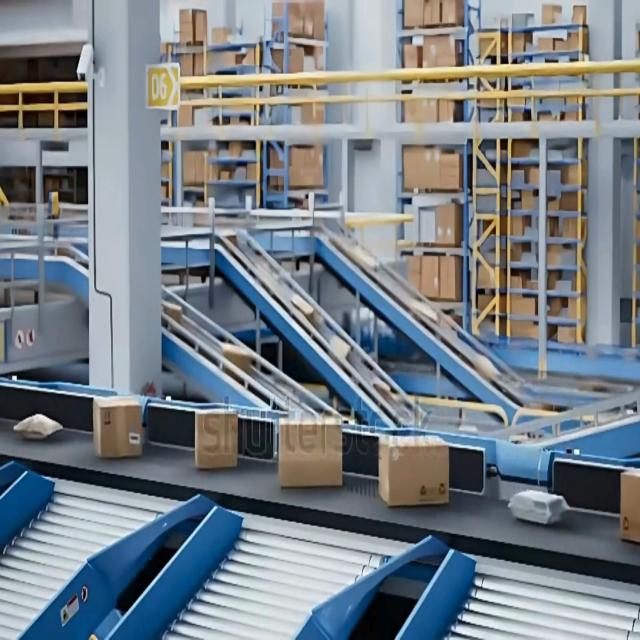product 1: (377, 433, 450, 507), (278, 417, 342, 488), (92, 394, 143, 459), (194, 408, 238, 469)
